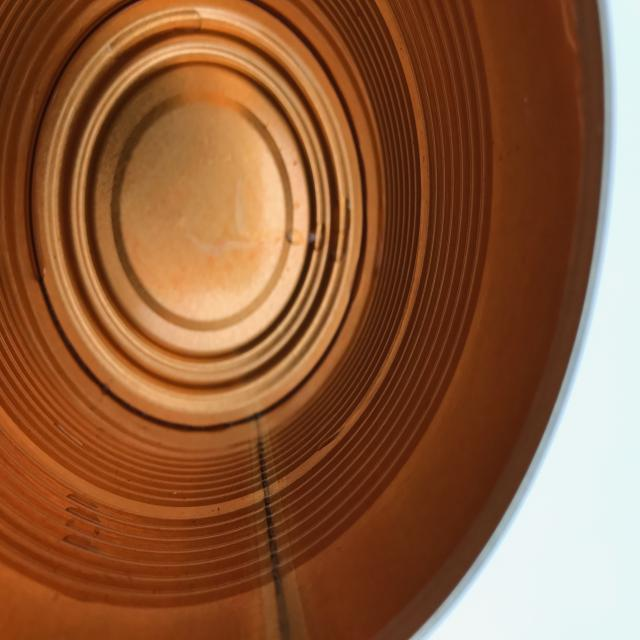Metal: (0, 1, 615, 639)
